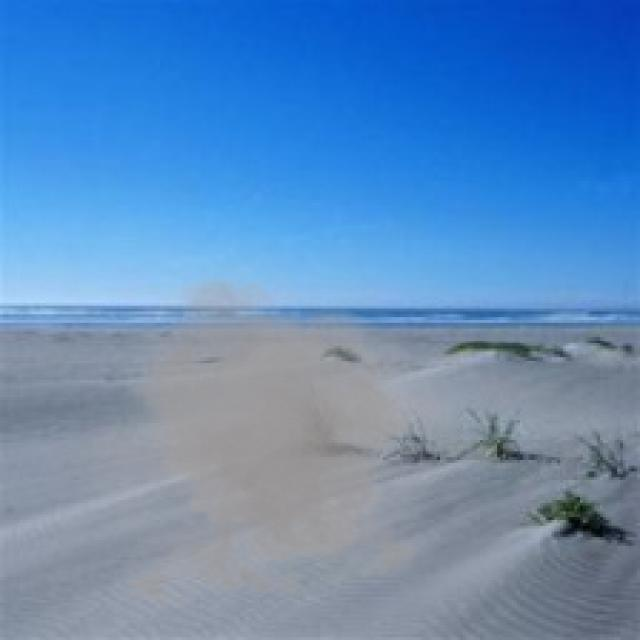smoke: (69, 272, 477, 617)
